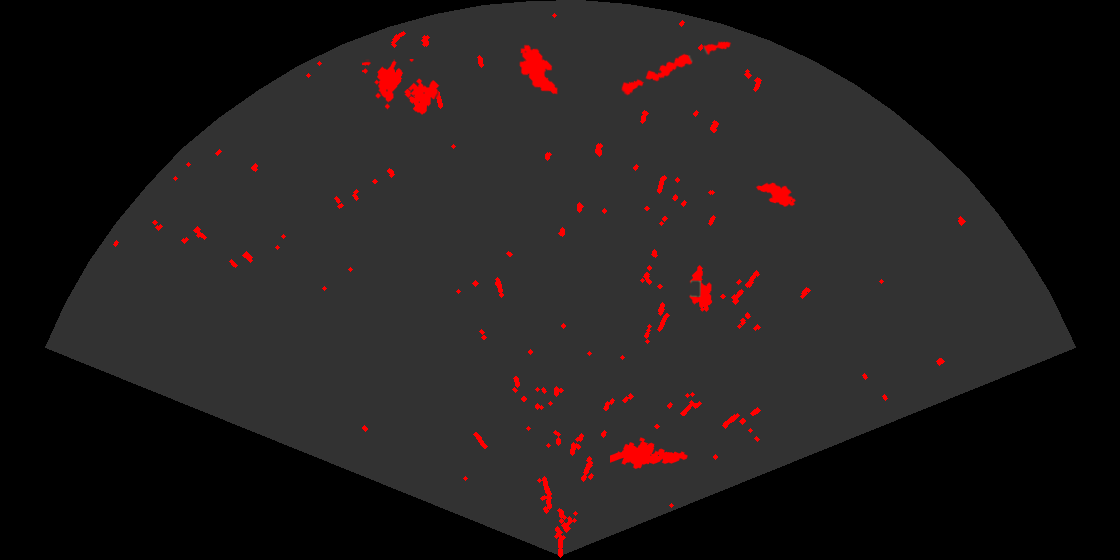AUV: (518, 43, 560, 96), (688, 263, 714, 314), (754, 181, 798, 208)
cage: (362, 59, 441, 116)
chain: (620, 40, 733, 97)
frogman: (610, 436, 689, 471)
